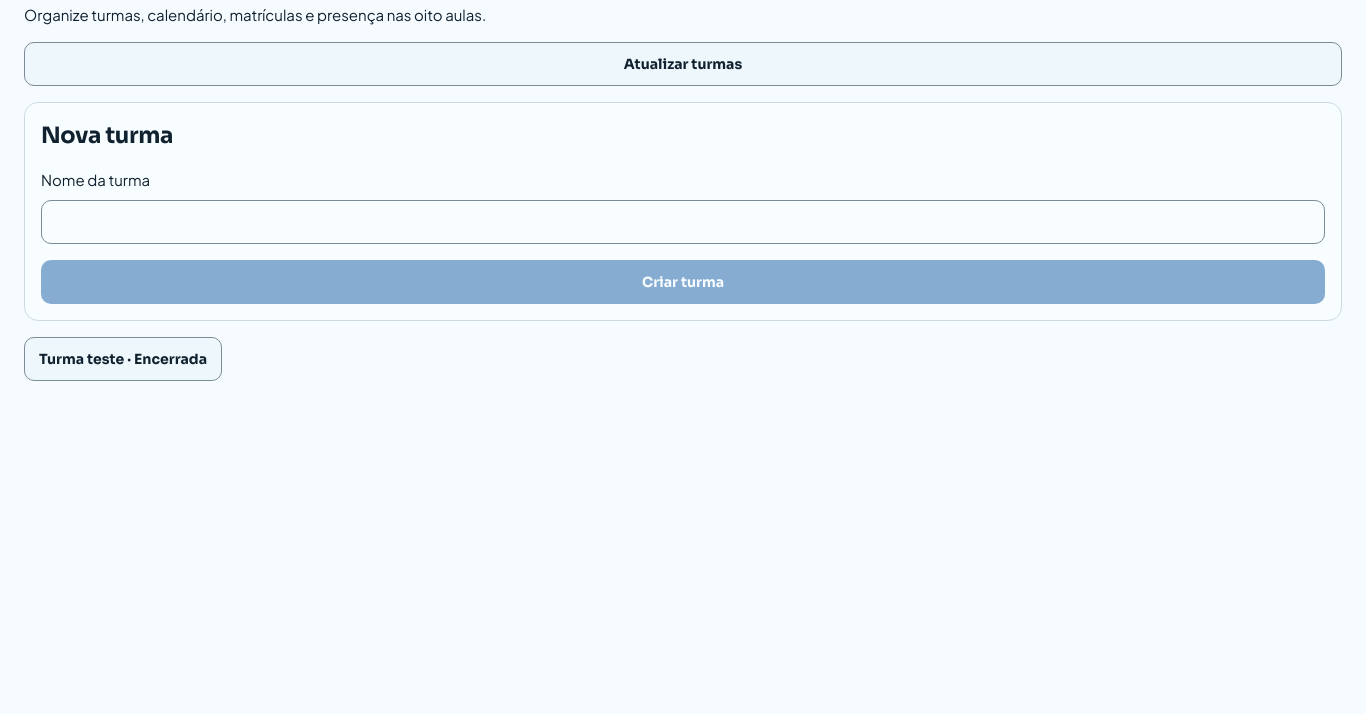
Scenario: turma encerrada mantém consulta e desabilita formulários da UV
What coordinates should you click on to do the following:
click the button "Turma teste · Encerrada"
I would click on:
 (123, 358)
Its box is [24,336,222,380].
(page scrolled)
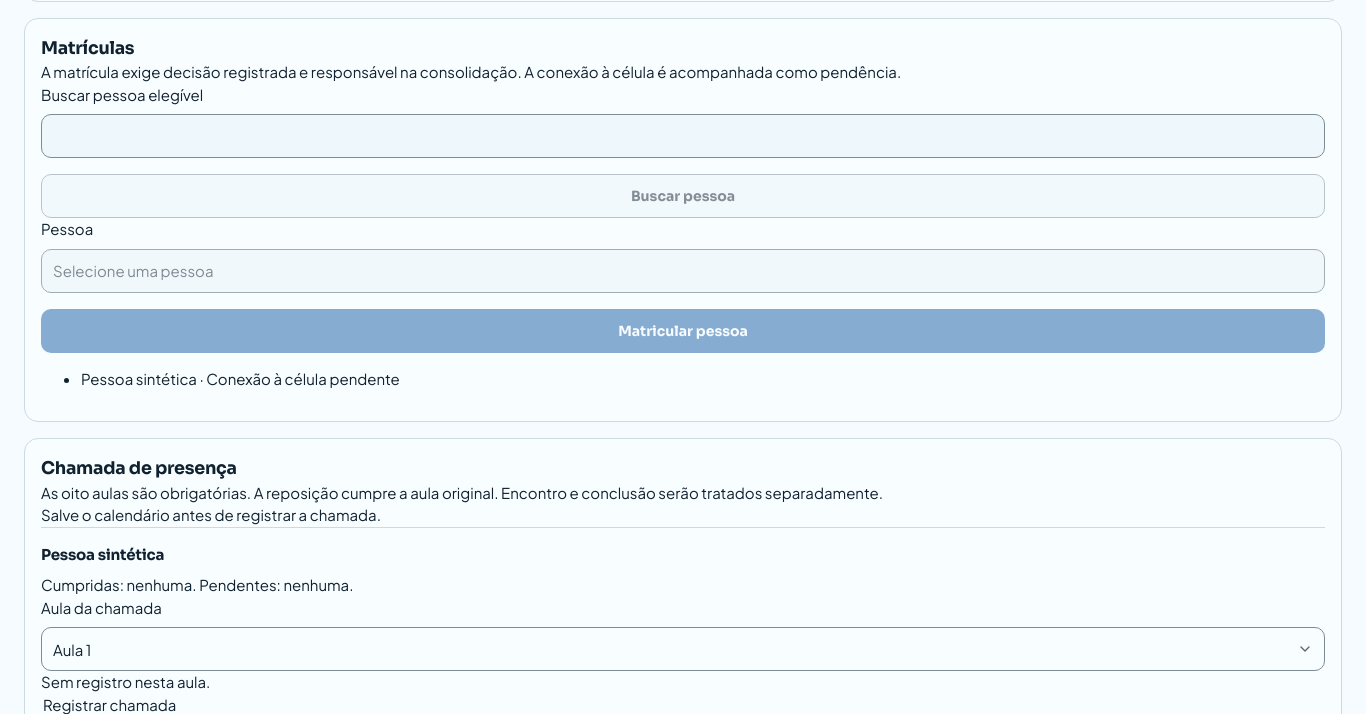
Now the button "Matricular pessoa" is disabled, box [41,309,1325,353]
